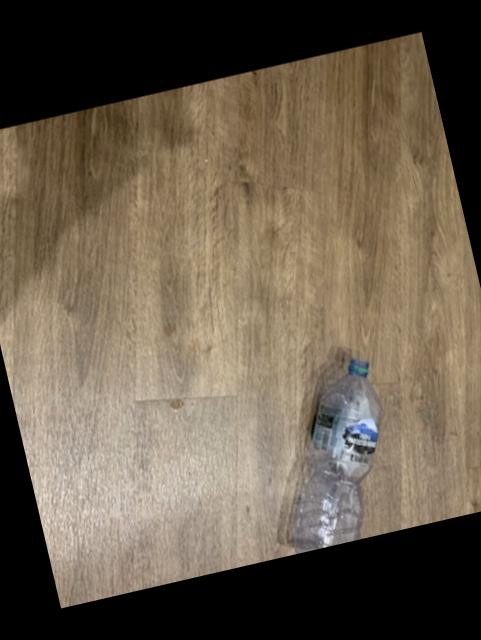plastic: (288, 357, 381, 554)
